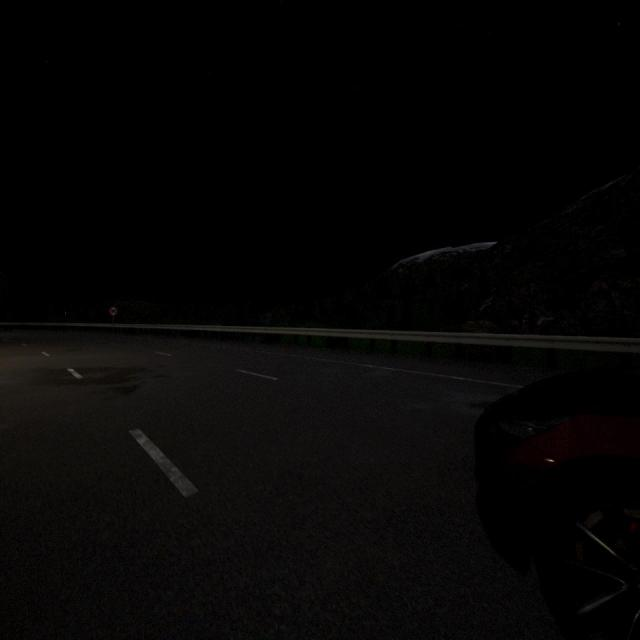Traffic_Signs: (109, 307, 118, 316)
Vehicle: (474, 371, 640, 638)
